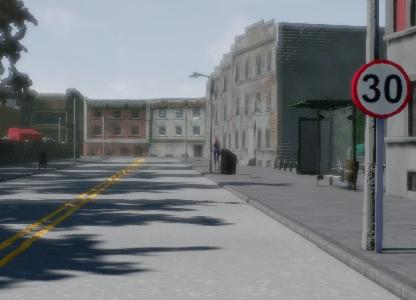Speed_30: (346, 53, 414, 123)
